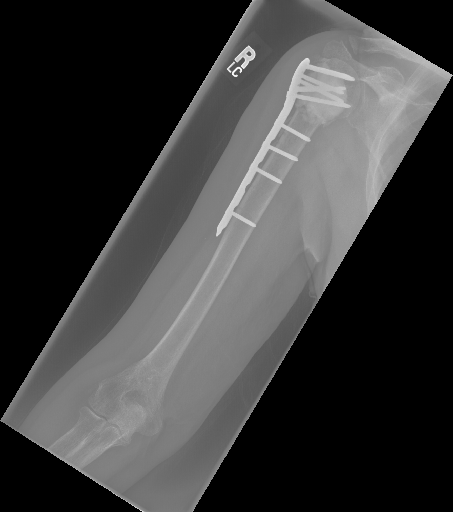implant: (213, 55, 356, 237)
